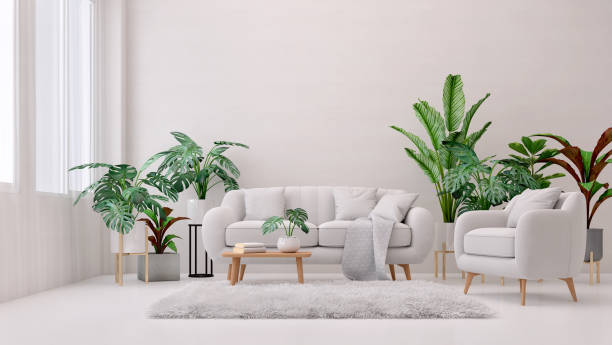chair: (451, 187, 589, 308)
large plant: (392, 72, 494, 252), (537, 124, 612, 264), (76, 158, 173, 255), (160, 132, 243, 223), (137, 205, 188, 283)
small plant: (260, 206, 312, 252)
sofa: (201, 184, 439, 285)
table: (222, 246, 312, 286)
